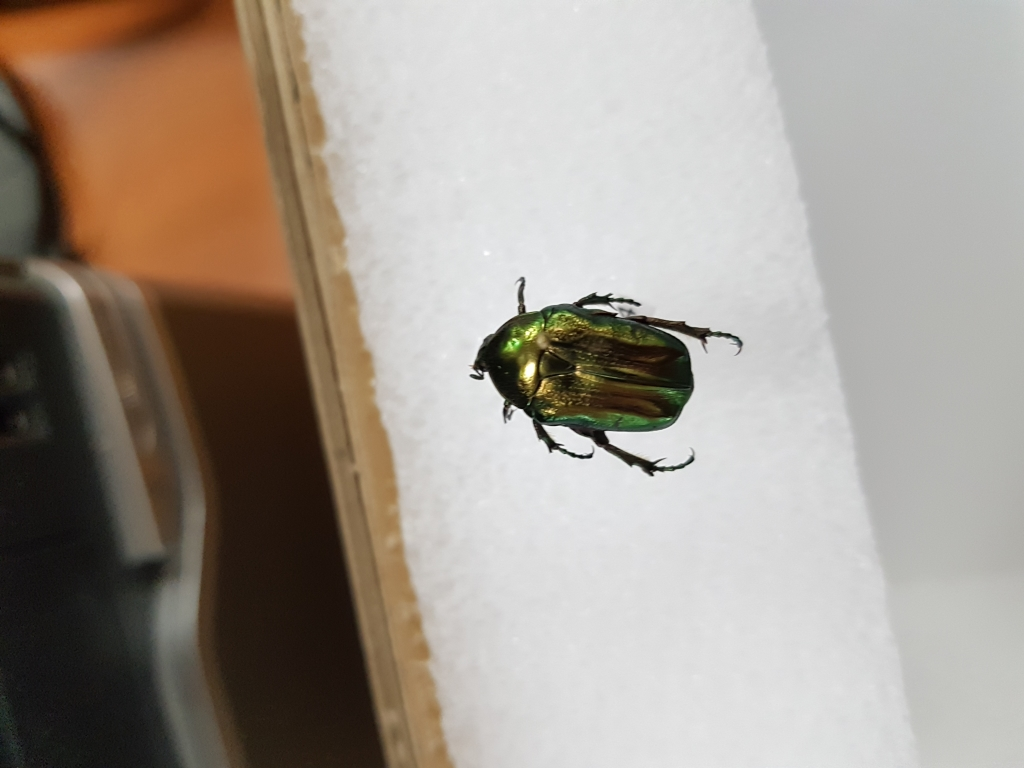Cetonia_aurata: (453, 275, 750, 483)
